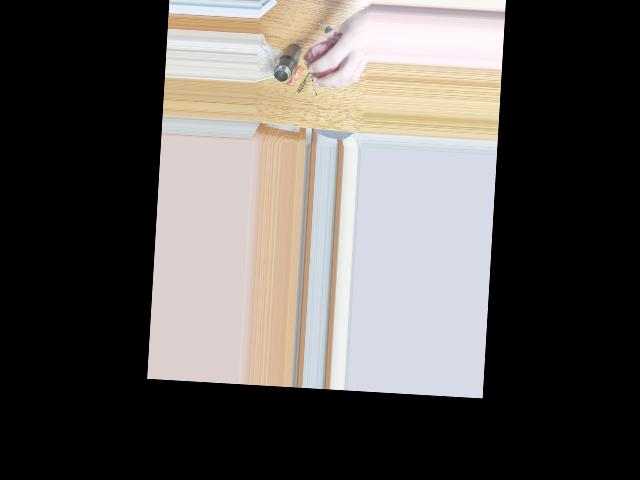onion: (308, 42, 343, 79)
